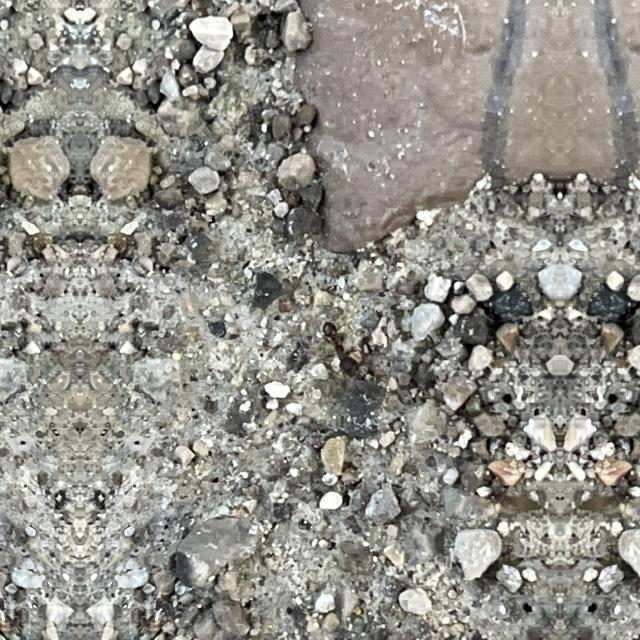Tetramorium: (318, 318, 362, 389)
